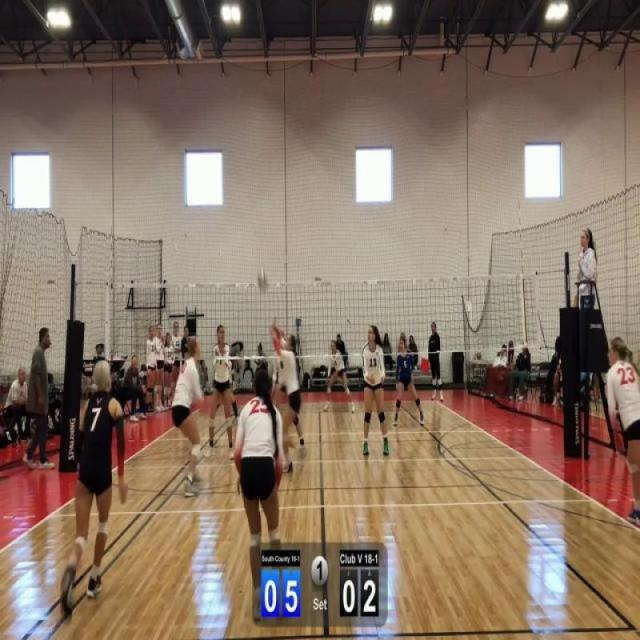volleyball: (255, 264, 270, 294)
